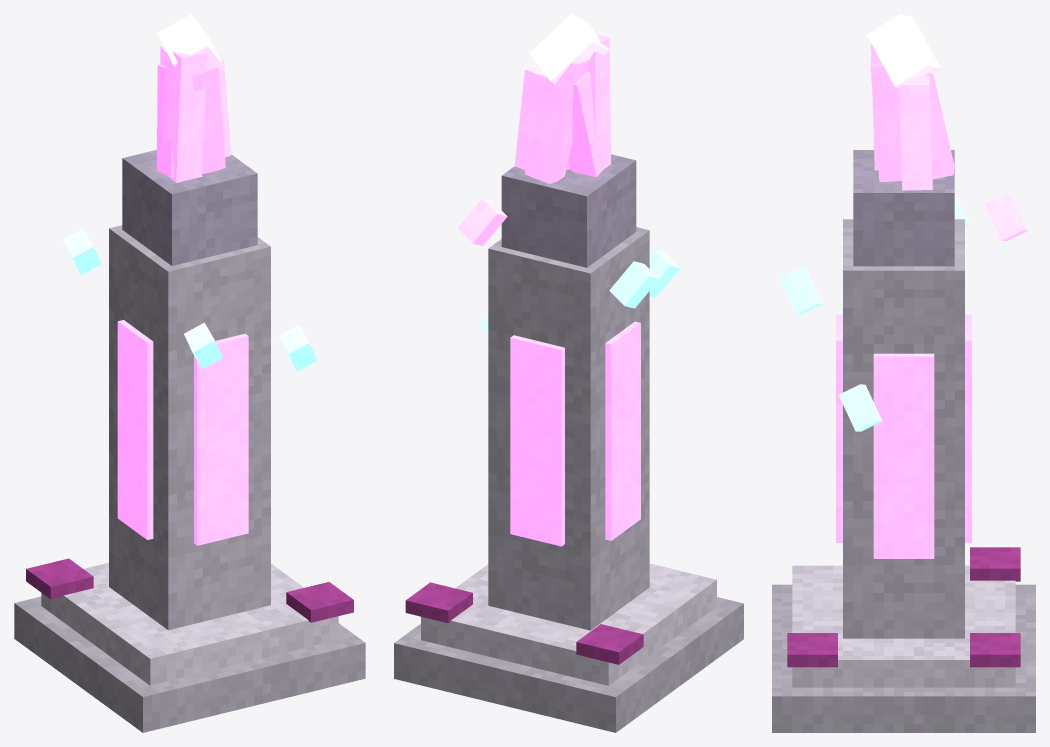
Rendered from obelisk_bois_enchante.glb.
The picture shows the model from 3 angles, left to right: view 1: azimuth 30°, elevation 25°; view 2: azimuth 150°, elevation 25°; view 3: azimuth 270°, elevation 25°; orthographic projection. The views are drawn at different scales.
Visible parts, largest first — view 1: Obelisk; view 2: Obelisk; view 3: Obelisk.
Boxes of the visible parts, bbox=[...] form: Obelisk: bbox=[14, 14, 365, 732]; Obelisk: bbox=[394, 14, 743, 732]; Obelisk: bbox=[772, 14, 1035, 732].
Bounding box in the file's own units: 1.3 × 3.61 × 1.3.
Materials: 15 (15 with a texture image).
